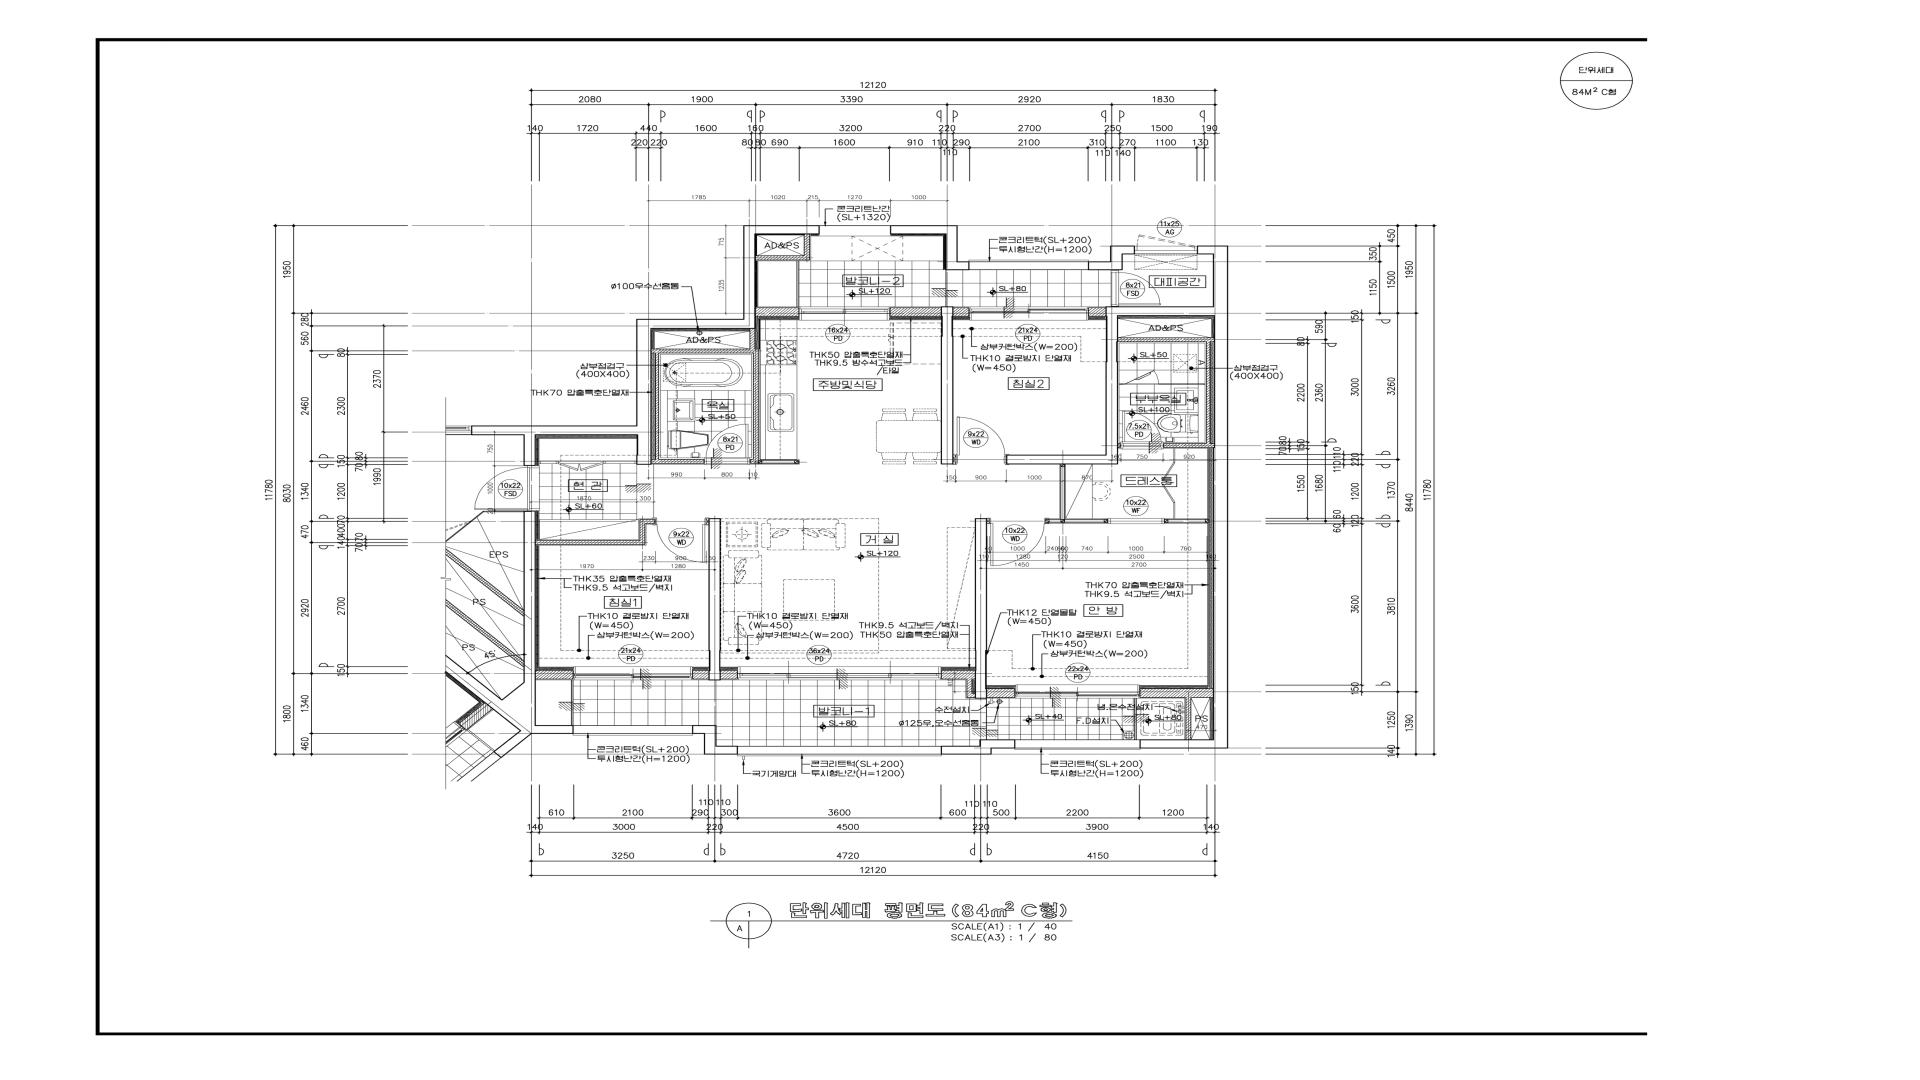door: (473, 465, 539, 510), (986, 518, 1046, 566), (953, 417, 1006, 465), (655, 518, 708, 563), (1110, 269, 1160, 306), (704, 423, 749, 464), (1121, 409, 1163, 450), (1108, 518, 1164, 524)
wall: (1006, 245, 1228, 749), (524, 225, 820, 465), (651, 328, 799, 464), (942, 518, 1015, 699), (890, 307, 969, 464), (524, 510, 574, 735), (1118, 338, 1215, 448), (692, 518, 738, 680), (1139, 688, 1213, 740), (1046, 464, 1108, 524), (890, 225, 969, 270), (535, 518, 655, 546), (756, 233, 810, 260), (692, 725, 737, 754), (1088, 245, 1135, 270), (942, 740, 1014, 754), (535, 670, 574, 680), (756, 307, 799, 316), (1164, 518, 1209, 524), (1088, 307, 1105, 316), (1118, 443, 1121, 448)
window: (737, 666, 942, 680), (737, 746, 942, 756), (1015, 684, 1139, 699), (574, 666, 692, 680), (969, 307, 1088, 320), (1014, 740, 1141, 750), (574, 725, 694, 736), (969, 260, 1089, 270), (1134, 235, 1197, 255), (799, 307, 890, 320), (820, 225, 890, 235)
